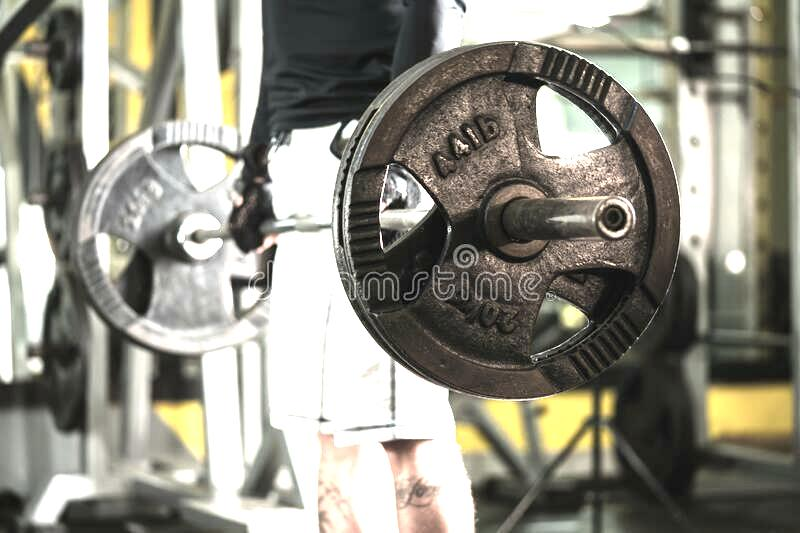Barbell: (590, 195, 640, 244)
